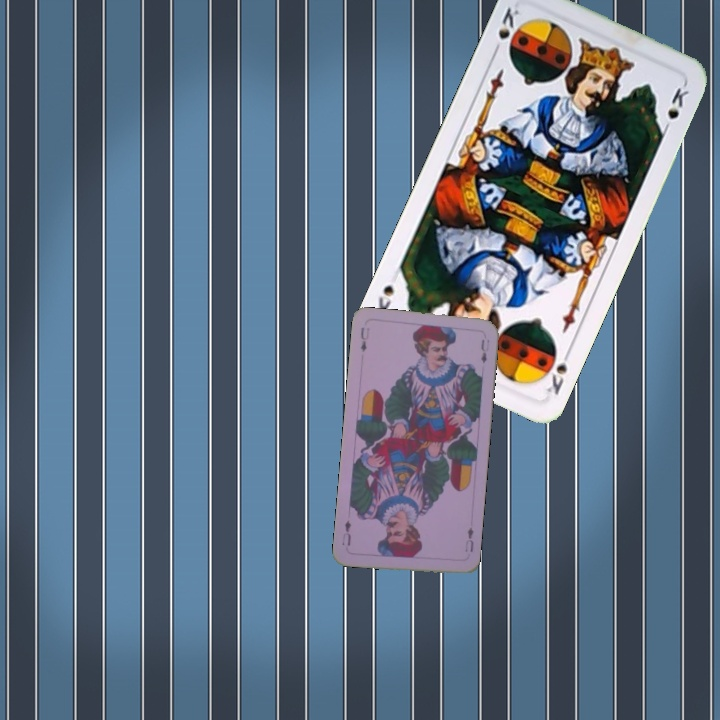EU: (461, 523, 476, 555), (356, 323, 370, 354)
SK: (488, 3, 522, 58), (542, 344, 575, 398)
